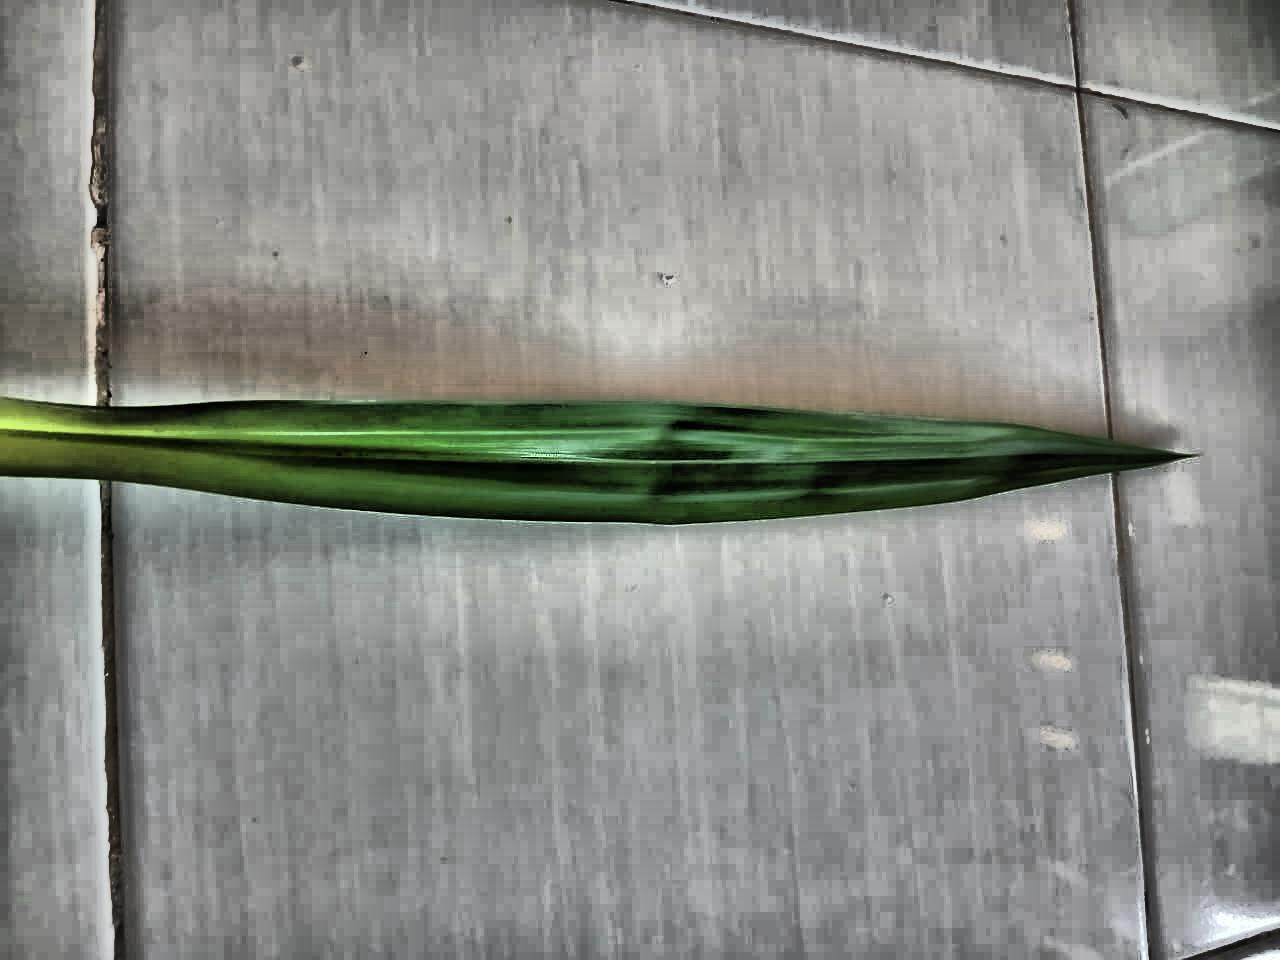daun pandan: (0, 398, 1181, 524)
